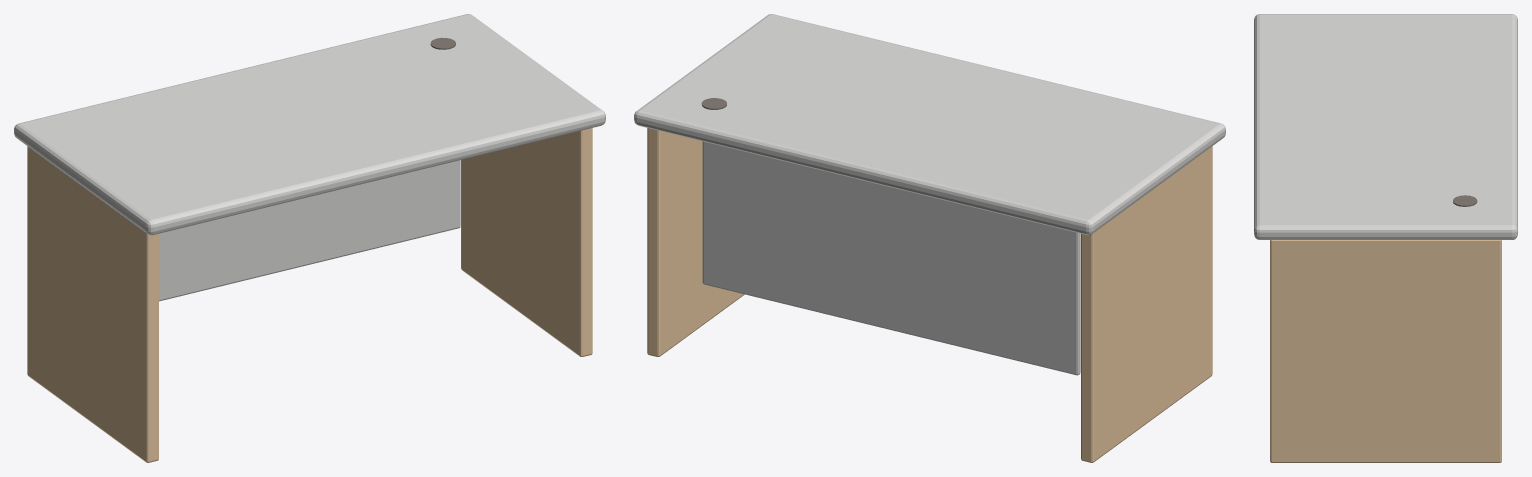
The model's file is isometric_workstation_variations_guide_16.glb.
3 renders of one model, left to right at view 1: azimuth 30°, elevation 25°; view 2: azimuth 150°, elevation 25°; view 3: azimuth 270°, elevation 25°, orthographic. The views are drawn at different scales.
Parts seen in each view (by area): view 1: Cube; view 2: Cube; view 3: Cube.
Boxes of the visible parts, box(x1,y1,x2,y2) form: Cube: box(14, 14, 605, 462); Cube: box(634, 14, 1225, 462); Cube: box(1254, 14, 1517, 462).
Bounding box in the file's own units: 1.45 × 0.754 × 0.75.
